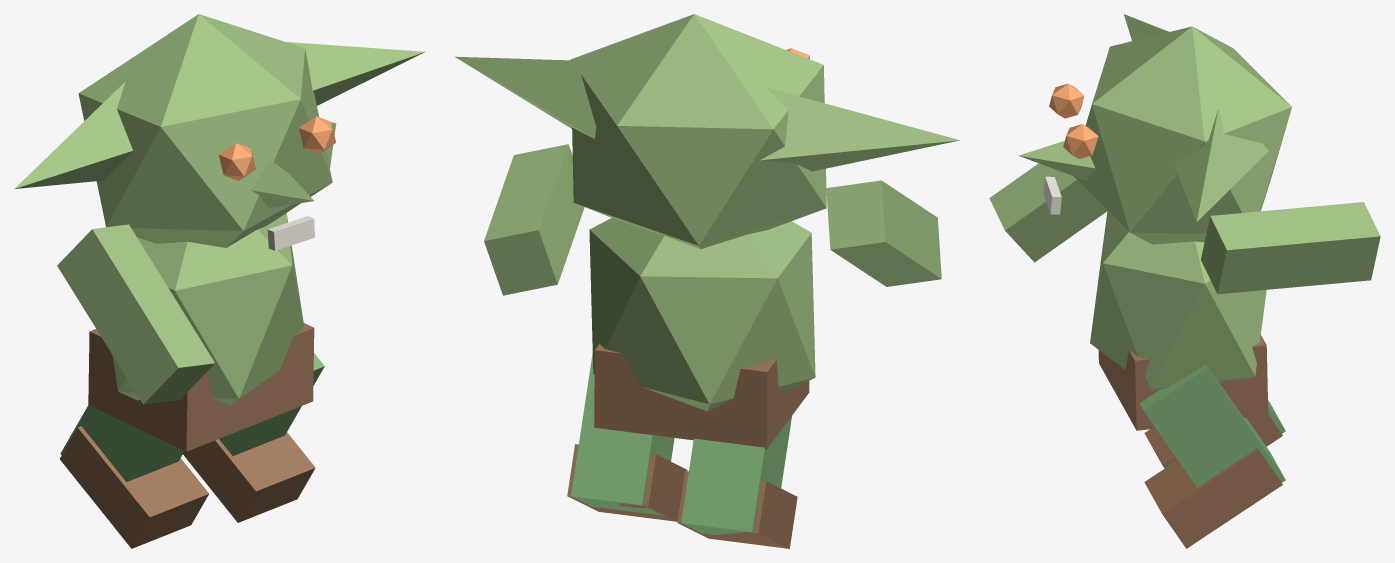
File: npcpose_goblin_attack_05.glb
The picture shows the model from 3 angles, left to right: view 1: azimuth 30°, elevation 25°; view 2: azimuth 150°, elevation 25°; view 3: azimuth 270°, elevation 25°; orthographic projection. The views are drawn at different scales.
Visible parts, largest first — view 1: npcpose; view 2: npcpose; view 3: npcpose.
Boxes of the visible parts, x1,y1,x2,y2 form: npcpose: (14, 14, 425, 548); npcpose: (455, 14, 959, 548); npcpose: (989, 14, 1380, 548).
Size of the model in its own units: 1.02 by 1.09 by 0.8096.
